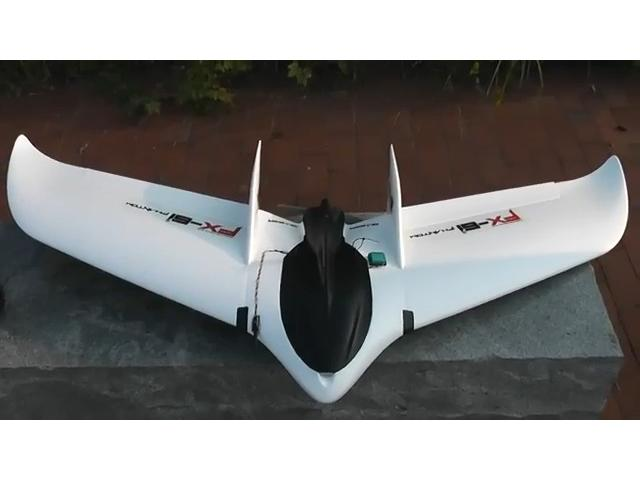Anti-Drone: (4, 118, 634, 410)
